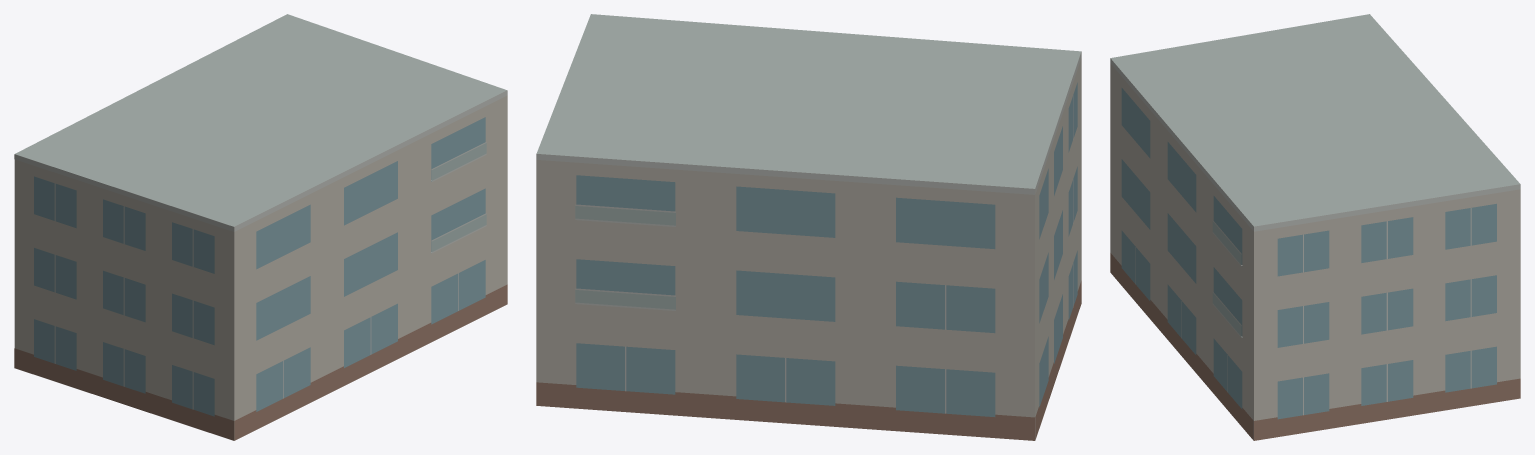
Rendered from survey-upis-32837832.glb.
3 views of the same model, side by side, from view 1: azimuth 30°, elevation 25°; view 2: azimuth 150°, elevation 25°; view 3: azimuth 270°, elevation 25° (orthographic). The views are drawn at different scales.
Parts seen in each view (by area): view 1: survey-upis-32837832.tmp; view 2: survey-upis-32837832.tmp; view 3: survey-upis-32837832.tmp.
Part boxes in pixels (x1=…): survey-upis-32837832.tmp: x1=14, y1=14, x2=507, y2=440; survey-upis-32837832.tmp: x1=536, y1=14, x2=1081, y2=440; survey-upis-32837832.tmp: x1=1110, y1=14, x2=1520, y2=440.
Bounding box in the file's own units: 21.72 × 10.2 × 17.71.
